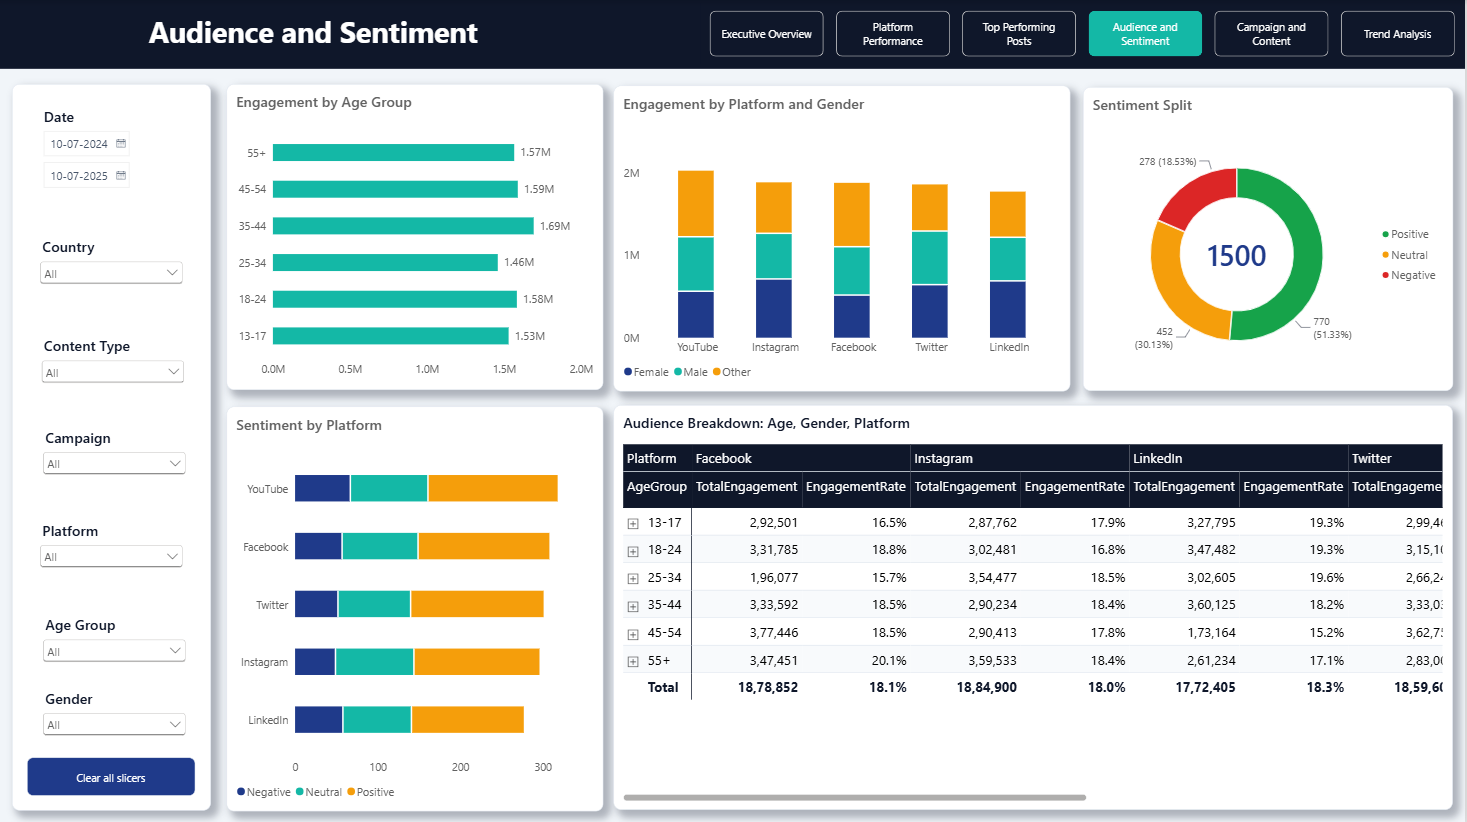

Layout of this report page (visuals, bound fields, positions):
{"tool":"powerbi","page":{"name":"Audience and Sentiment","canvas":[1920,1080],"ordinal":3},"visuals":[{"type":"barChart","title":"Engagement by Age Group","fields":{"Category":["SocialMediaInsights.AgeGroup"],"Y":["SocialMediaInsights.TotalEngagement"]},"box":[299.8,109,492.9,399.8],"z":0},{"type":"columnChart","title":"Engagement by Platform and Gender","fields":{"Category":["SocialMediaInsights.Platform"],"Series":["SocialMediaInsights.Gender"],"Y":["SocialMediaInsights.TotalEngagement"]},"box":[806.3,111.3,597.4,399.8],"z":1000},{"type":"donutChart","title":"Sentiment Split","fields":{"Category":["SocialMediaInsights.Sentiment"],"Y":["SocialMediaInsights.TotalPosts"]},"box":[1419.6,113.6,483.8,397.5],"z":2000},{"type":"barChart","title":"Sentiment by Platform","fields":{"Category":["SocialMediaInsights.Platform"],"Series":["SocialMediaInsights.Sentiment"],"Y":["SocialMediaInsights.TotalPosts"]},"box":[299.8,531.5,492.9,529.2],"z":3000},{"type":"pivotTable","title":"Audience Breakdown: Age, Gender, Platform","fields":{"Columns":["SocialMediaInsights.Platform"],"Rows":["SocialMediaInsights.AgeGroup","SocialMediaInsights.Gender"],"Values":["SocialMediaInsights.TotalEngagement","SocialMediaInsights.EngagementRate"]},"box":[806.3,529.2,1097,529.2],"z":4000},{"type":"shape","box":[0,0,1920,90],"z":5000},{"type":"pageNavigator","box":[919,4.3,1000,80],"z":7000},{"type":"shape","box":[20,110,260,950],"z":8000},{"type":"textbox","box":[35,5,756.3,90.9],"z":9000},{"type":"slicer","fields":{"Values":["DateTable.Date"]},"box":[40.9,130,218,165.8],"z":10000},{"type":"slicer","fields":{"Values":["SocialMediaInsights.Country"]},"box":[40,300,220,100],"z":11000},{"type":"slicer","fields":{"Values":["SocialMediaInsights.ContentType"]},"box":[40.9,430,220,100],"z":12000},{"type":"slicer","fields":{"Values":["SocialMediaInsights.Campaign"]},"box":[43.2,550,220,100],"z":13000},{"type":"slicer","fields":{"Values":["SocialMediaInsights.Platform"]},"box":[38.6,670,220.3,102.2],"z":14000},{"type":"actionButton","box":[40,990,220,50],"z":15000},{"type":"slicer","fields":{"Values":["SocialMediaInsights.AgeGroup"]},"box":[43.2,795,220,100],"z":15001},{"type":"slicer","fields":{"Values":["SocialMediaInsights.Gender"]},"box":[43.2,890.4,220,100],"z":15002}]}

Visuals, with their boxes in screenshot pixels (x1, y1, x2, y2), scaled from the page's 1920x1080 canvas onto the 1467x822 screenshot:
"Engagement by Age Group" barChart: {"left": 229, "top": 83, "right": 606, "bottom": 387}
"Engagement by Platform and Gender" columnChart: {"left": 616, "top": 85, "right": 1073, "bottom": 389}
"Sentiment Split" donutChart: {"left": 1085, "top": 86, "right": 1454, "bottom": 389}
"Sentiment by Platform" barChart: {"left": 229, "top": 405, "right": 606, "bottom": 807}
"Audience Breakdown: Age, Gender, Platform" pivotTable: {"left": 616, "top": 403, "right": 1454, "bottom": 806}
shape: {"left": 0, "top": 0, "right": 1466, "bottom": 68}
pageNavigator: {"left": 702, "top": 3, "right": 1466, "bottom": 64}
shape: {"left": 15, "top": 84, "right": 214, "bottom": 807}
textbox: {"left": 27, "top": 4, "right": 605, "bottom": 73}
slicer - DateTable.Date: {"left": 31, "top": 99, "right": 198, "bottom": 225}
slicer - SocialMediaInsights.Country: {"left": 31, "top": 228, "right": 199, "bottom": 304}
slicer - SocialMediaInsights.ContentType: {"left": 31, "top": 327, "right": 199, "bottom": 403}
slicer - SocialMediaInsights.Campaign: {"left": 33, "top": 419, "right": 201, "bottom": 495}
slicer - SocialMediaInsights.Platform: {"left": 29, "top": 510, "right": 198, "bottom": 588}
actionButton: {"left": 31, "top": 754, "right": 199, "bottom": 792}
slicer - SocialMediaInsights.AgeGroup: {"left": 33, "top": 605, "right": 201, "bottom": 681}
slicer - SocialMediaInsights.Gender: {"left": 33, "top": 678, "right": 201, "bottom": 754}
